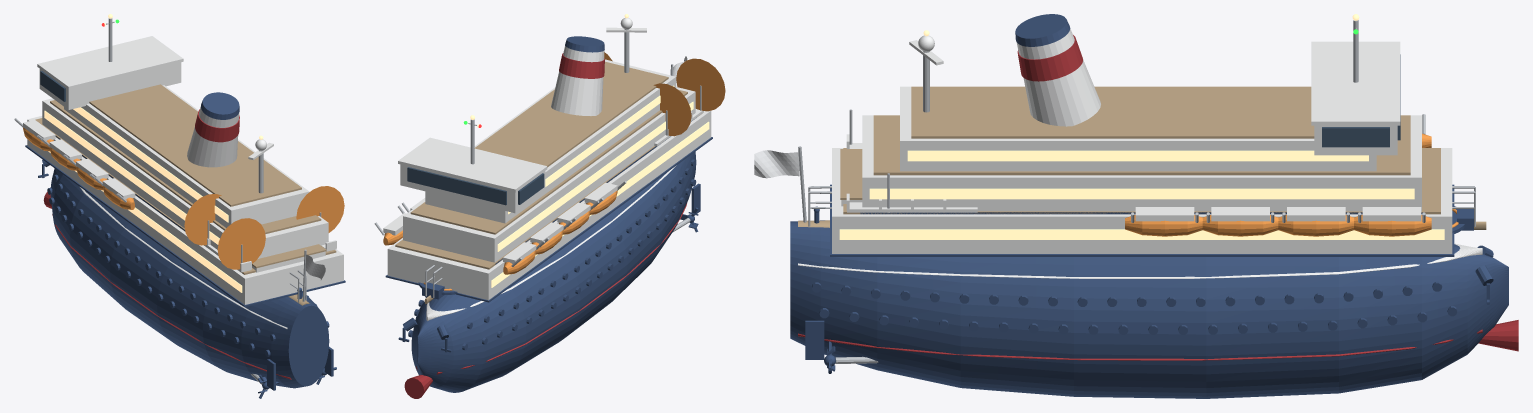
File: tidereign_grand_ocean_liner.glb
The picture shows the model from 3 angles, left to right: view 1: azimuth 30°, elevation 25°; view 2: azimuth 150°, elevation 25°; view 3: azimuth 270°, elevation 25°; orthographic projection. The views are drawn at different scales.
Parts seen in each view (by area): view 1: hull, tierdeck_2, tier_0, tier_1, tier_2, bridge_roof, bridge, para_top_-2.0_7.9, funnel, para_top_2.0_6.9, winband_1, tierdeck_1 (+18 smaller); view 2: hull, tierdeck_2, tier_0, tier_1, bridge_roof, tier_2, funnel, tierdeck_1, para_top_-2.0_7.9, bridge_glass_f, winband_1, bridge (+16 smaller); view 3: hull, tierdeck_2, tier_0, tier_1, tier_2, bridge_roof, winband_1, winband_2, tierdeck_1, winband_0, funnel, tierline_0 (+20 smaller).
Boxes of the visible parts, box(x1,y1,x2,y2) form: hull: box(50, 168, 329, 388); tierdeck_2: box(89, 84, 301, 206); tier_0: box(27, 116, 343, 304); tier_1: box(42, 98, 328, 258); tier_2: box(64, 85, 309, 227); bridge_roof: box(37, 36, 183, 89); bridge: box(39, 62, 181, 109); para_top_-2.0_7.9: box(217, 218, 265, 269); funnel: box(187, 106, 239, 167); para_top_2.0_6.9: box(296, 186, 344, 232); winband_1: box(44, 110, 219, 244); tierdeck_1: box(50, 100, 321, 234); hull: box(411, 151, 696, 392); tierdeck_2: box(474, 61, 668, 167); tier_0: box(387, 110, 711, 300); tier_1: box(403, 87, 695, 262); bridge_roof: box(398, 137, 547, 192); tier_2: box(425, 59, 676, 223); funnel: box(551, 46, 604, 115); tierdeck_1: box(410, 89, 687, 234); para_top_-2.0_7.9: box(676, 58, 725, 111); bridge_glass_f: box(407, 167, 506, 205); winband_1: box(497, 101, 693, 251); bridge: box(400, 164, 545, 213); hull: box(790, 220, 1508, 398); tierdeck_2: box(911, 86, 1314, 138); tier_0: box(832, 148, 1452, 253); tier_1: box(862, 115, 1421, 211); tier_2: box(900, 86, 1376, 171); bridge_roof: box(1311, 41, 1400, 125); winband_1: box(869, 188, 1414, 199); winband_2: box(907, 150, 1368, 161); tierdeck_1: box(873, 115, 1410, 175); winband_0: box(839, 229, 1444, 239); funnel: box(1016, 29, 1100, 126); tierline_0: box(830, 184, 1454, 256).
Size of the model in its own units: 6.27 by 10.99 by 20.2.
